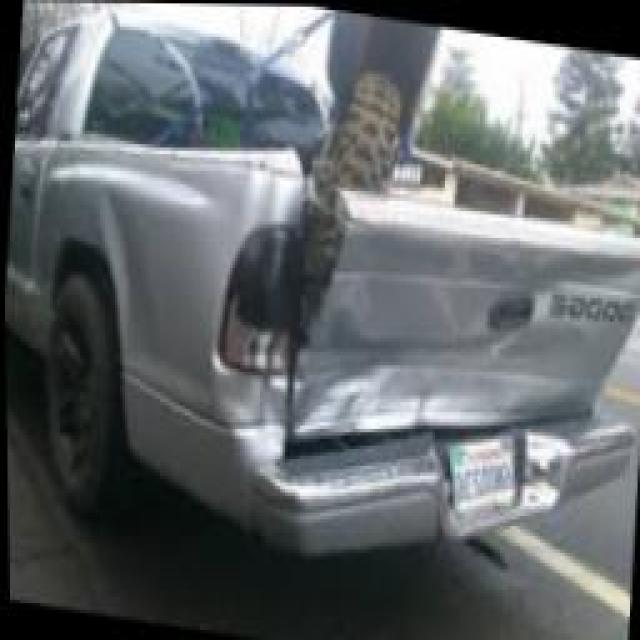replaceable: (297, 288, 494, 438)
